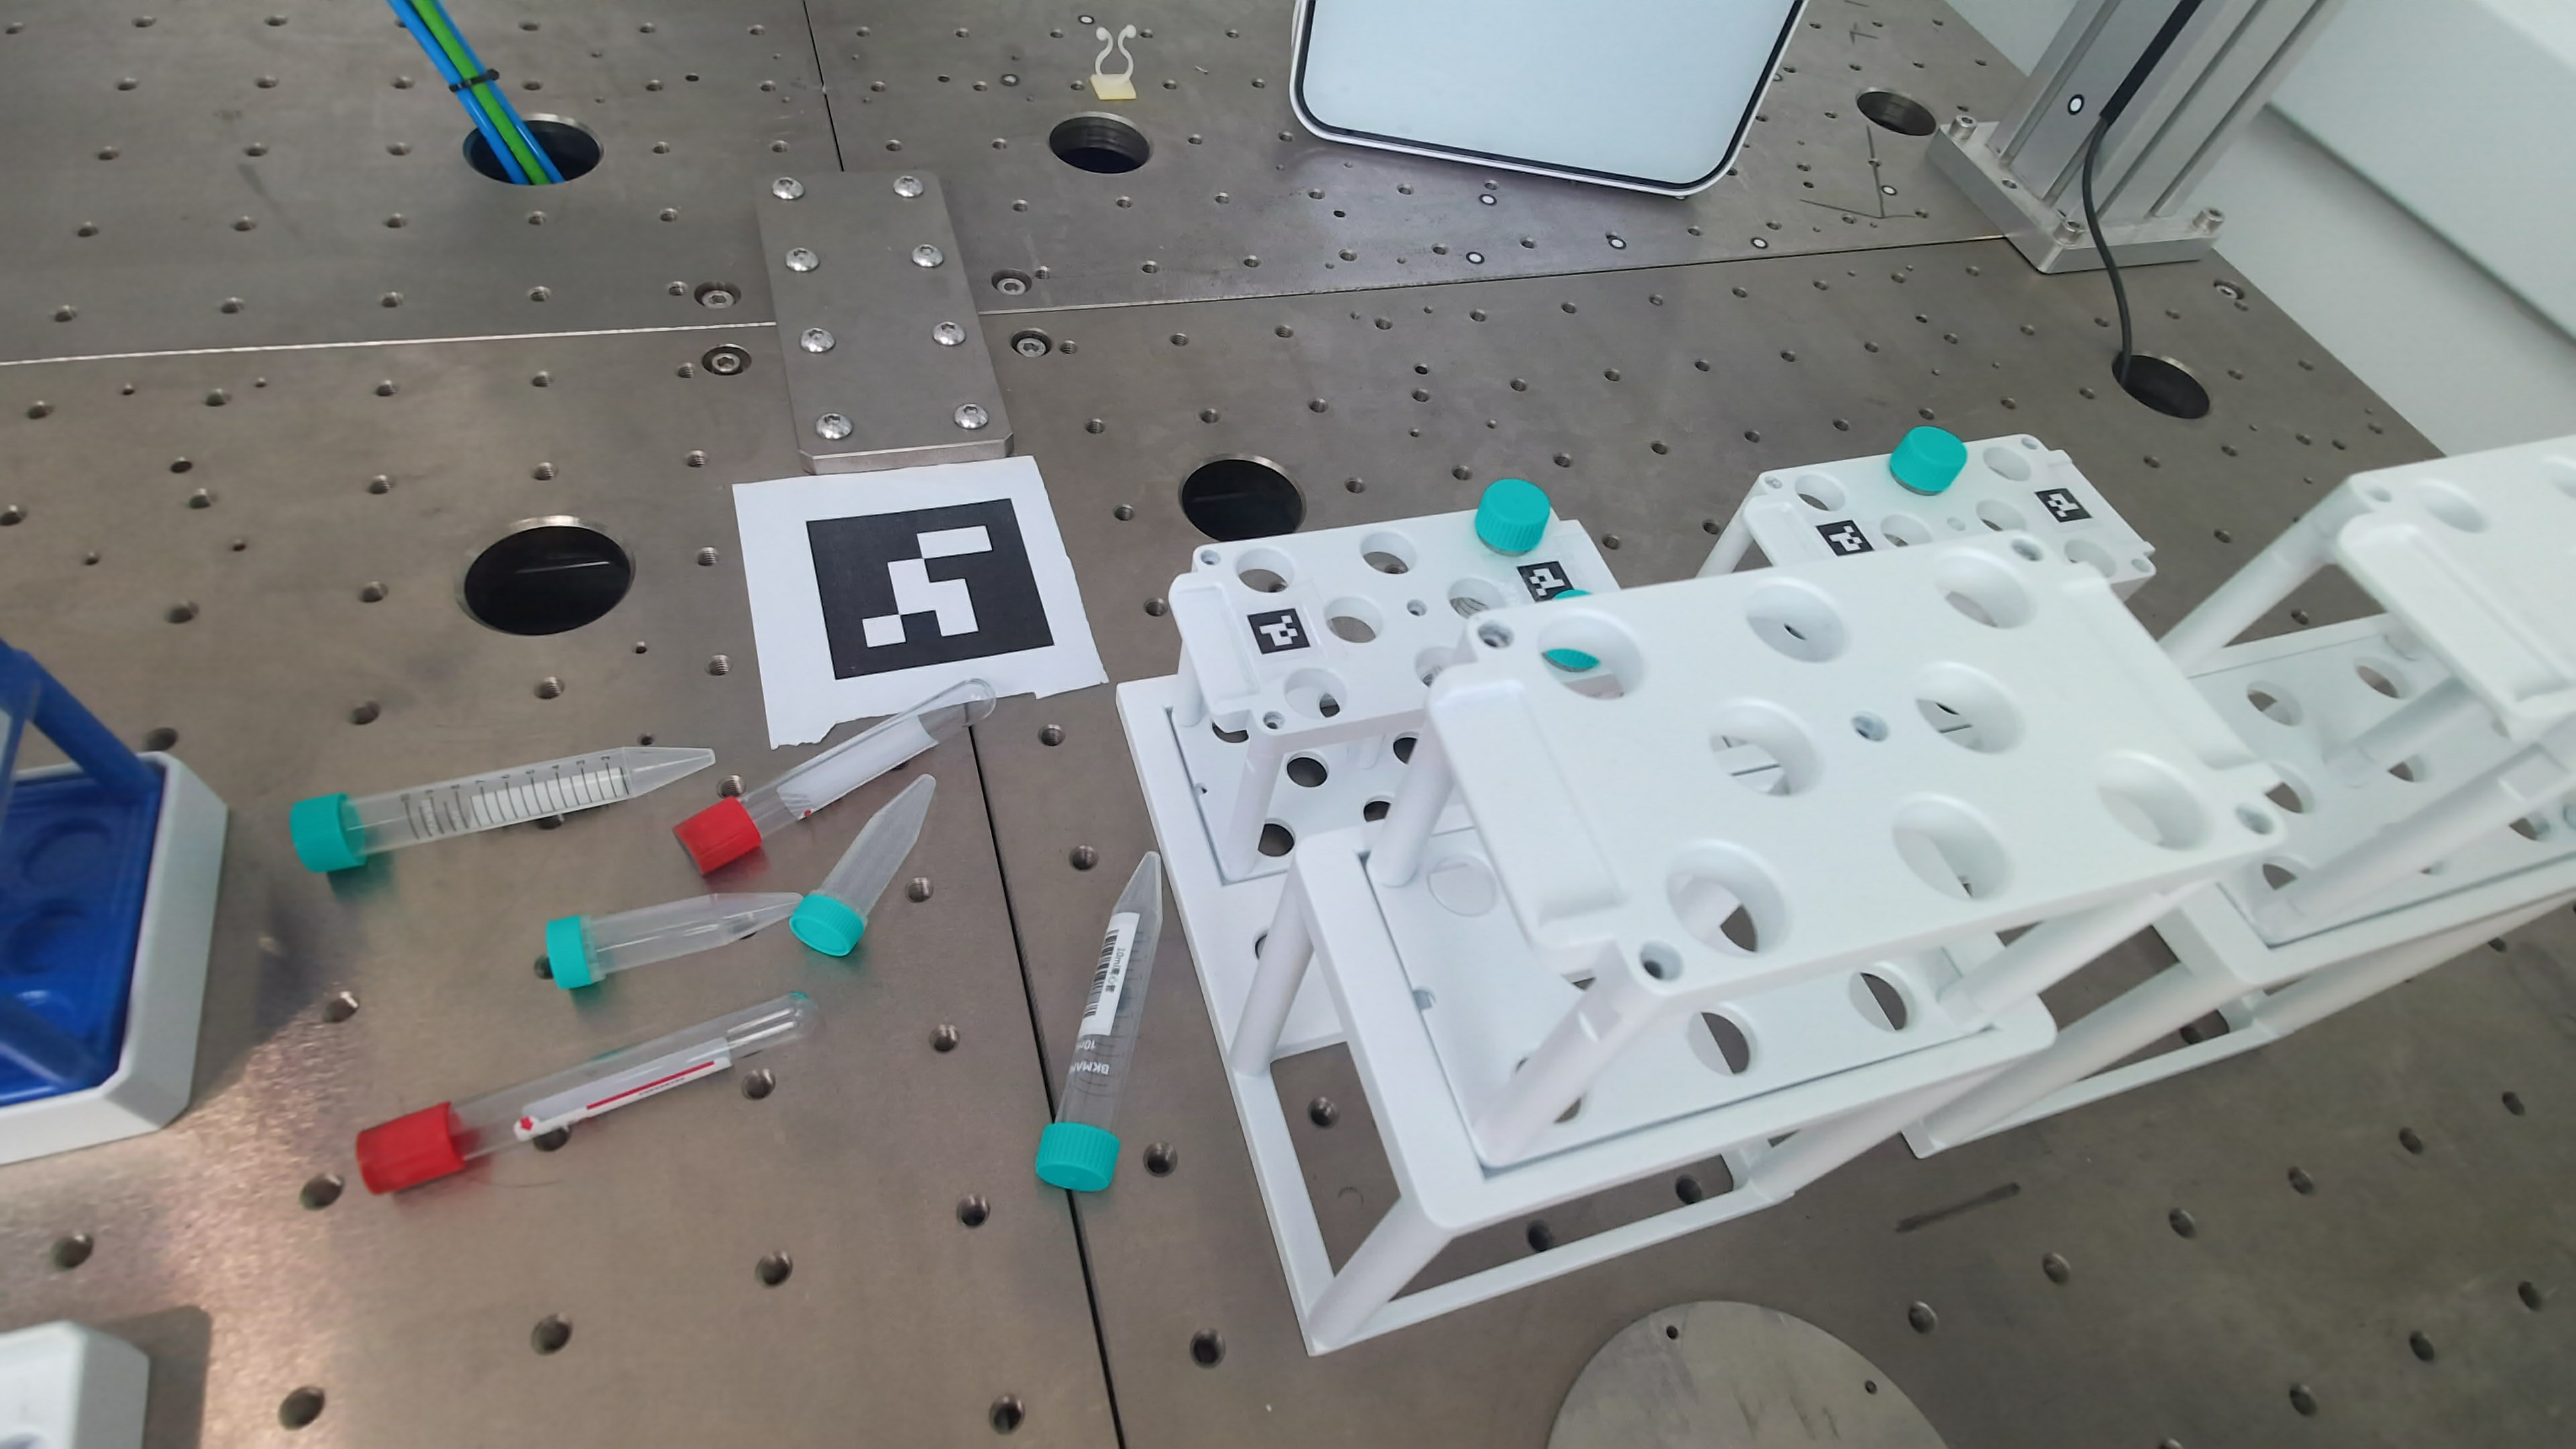10ML_centrifuge_tube: (290, 747, 713, 871), (1036, 853, 1161, 1191), (1474, 478, 1551, 555), (1889, 425, 1967, 494), (1543, 647, 1601, 674), (1554, 588, 1589, 599)
10ML_sorting_tube_rack: (0, 643, 162, 1105)
5ML_centrifuge_tube: (790, 775, 935, 957), (547, 894, 801, 988)
blood_tube: (356, 993, 816, 1193), (674, 678, 997, 873)
dispensing_tube_rack: (1120, 436, 2576, 1351)
sorting_tube_rack_base: (0, 755, 227, 1164), (0, 1322, 149, 1449)
